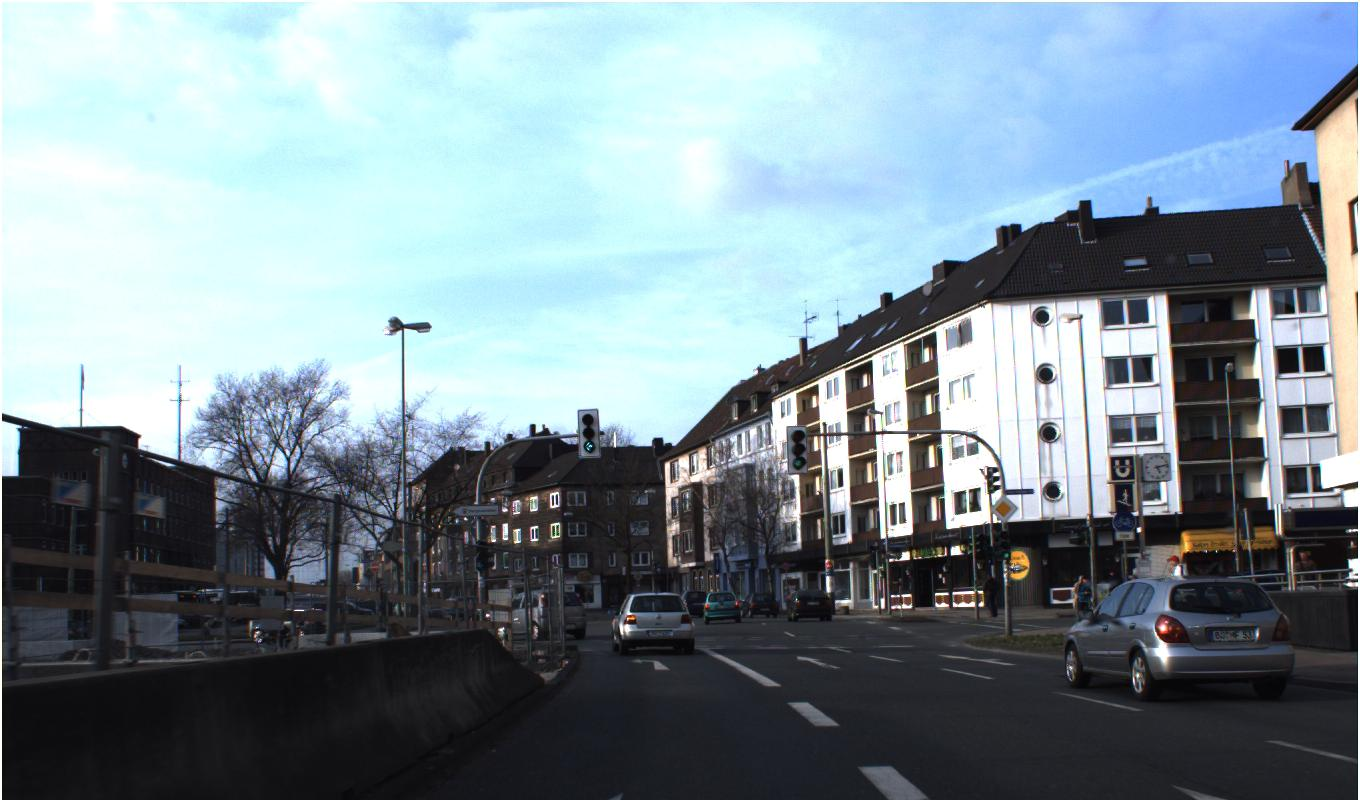sign: (989, 493, 1018, 525)
